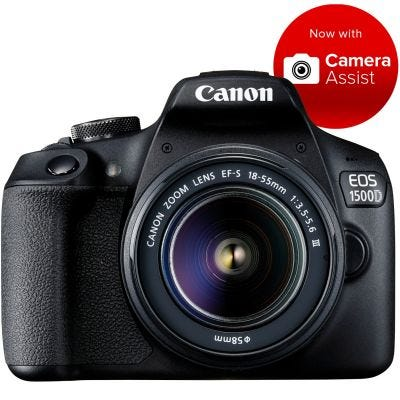kamera: (1, 63, 400, 397)
